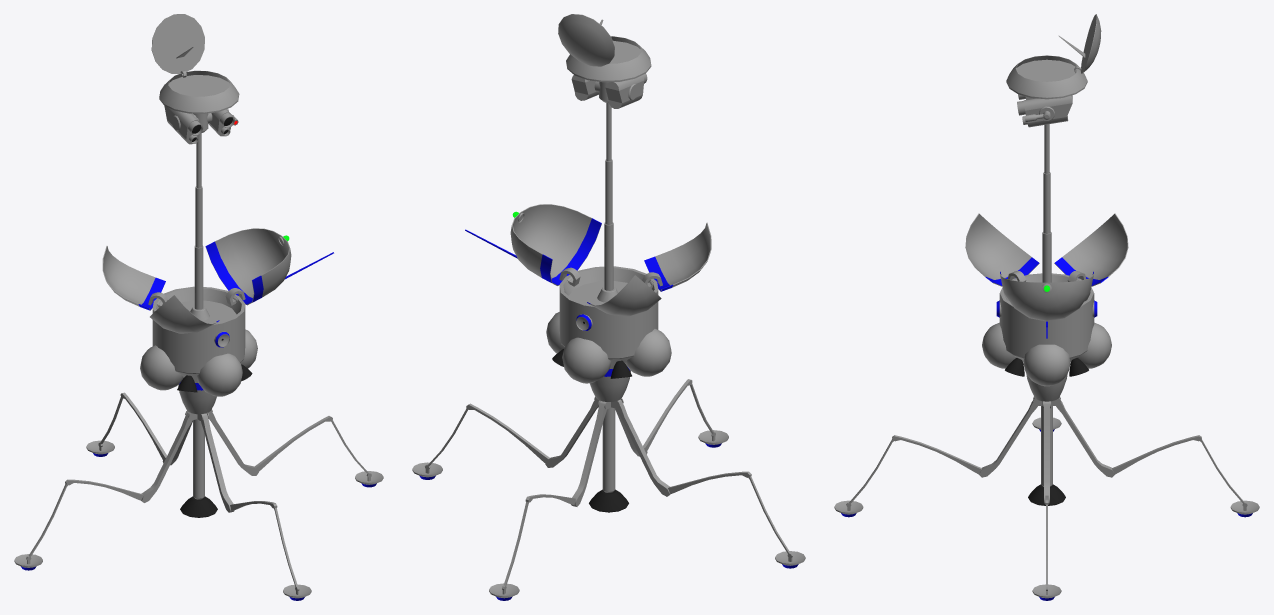
File: Runway_Detector.FBX
The picture shows the model from 3 angles, left to right: view 1: azimuth 30°, elevation 25°; view 2: azimuth 150°, elevation 25°; view 3: azimuth 270°, elevation 25°; orthographic projection. The views are drawn at different scales.
Visible parts, largest first — view 1: Runway_Detector; view 2: Runway_Detector; view 3: Runway_Detector.
Boxes of the visible parts, x1,y1,x2,y2 form: Runway_Detector: [14, 14, 383, 600]; Runway_Detector: [412, 14, 805, 600]; Runway_Detector: [834, 14, 1259, 600].
Size of the model in its own units: 2.01 by 2.59 by 2.01.
